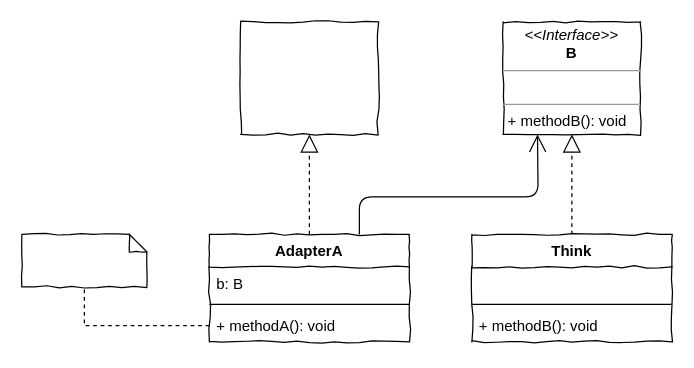
Some shapes in this 694 by 368 pixel diagram are drawn without their labels. The centre of each missing label's shape, as x and y in pixels:
"<<Interface>> A + methodA(): void" belongs at (308,77).
"void methodA{ b.methodB(); }" belongs at (84,260).
